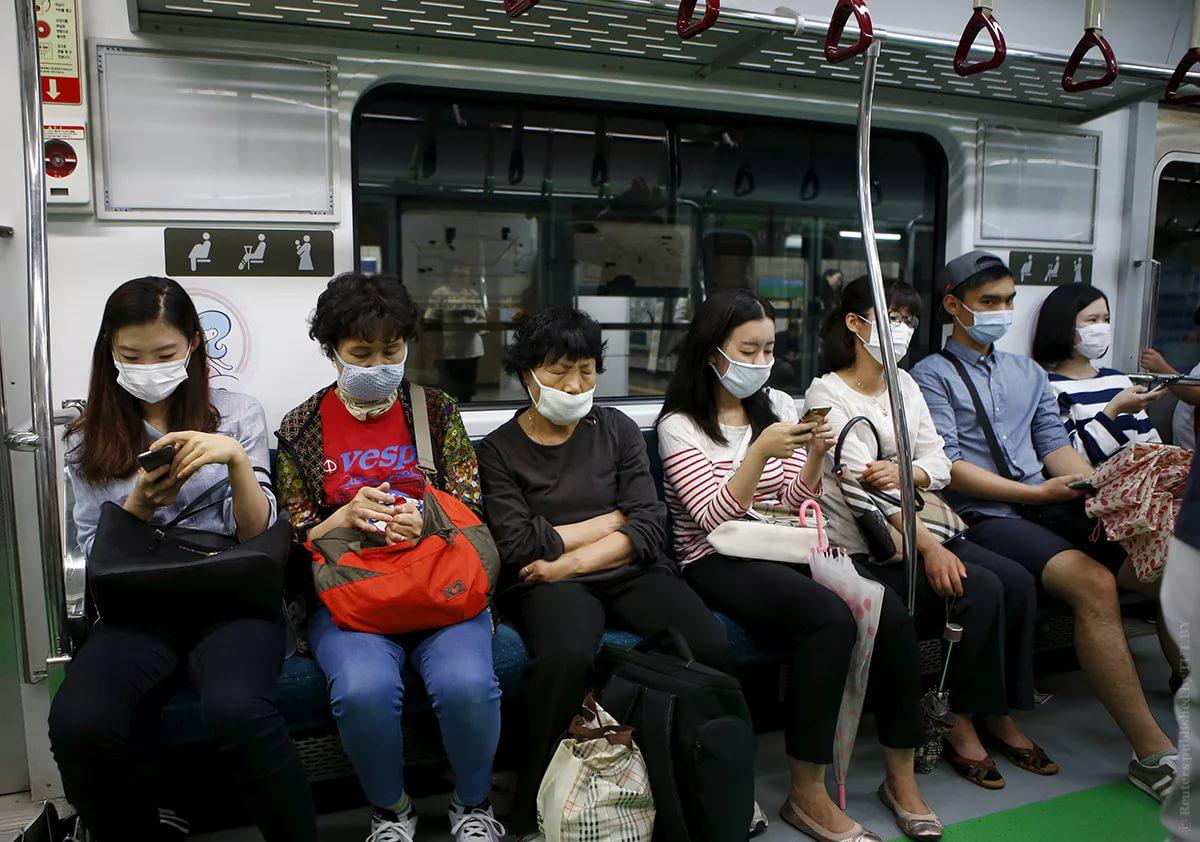mask: (115, 312, 191, 407), (337, 321, 407, 398), (960, 270, 1024, 343), (725, 318, 777, 397), (865, 292, 918, 365), (1071, 290, 1119, 355)
poor: (533, 348, 598, 423)
